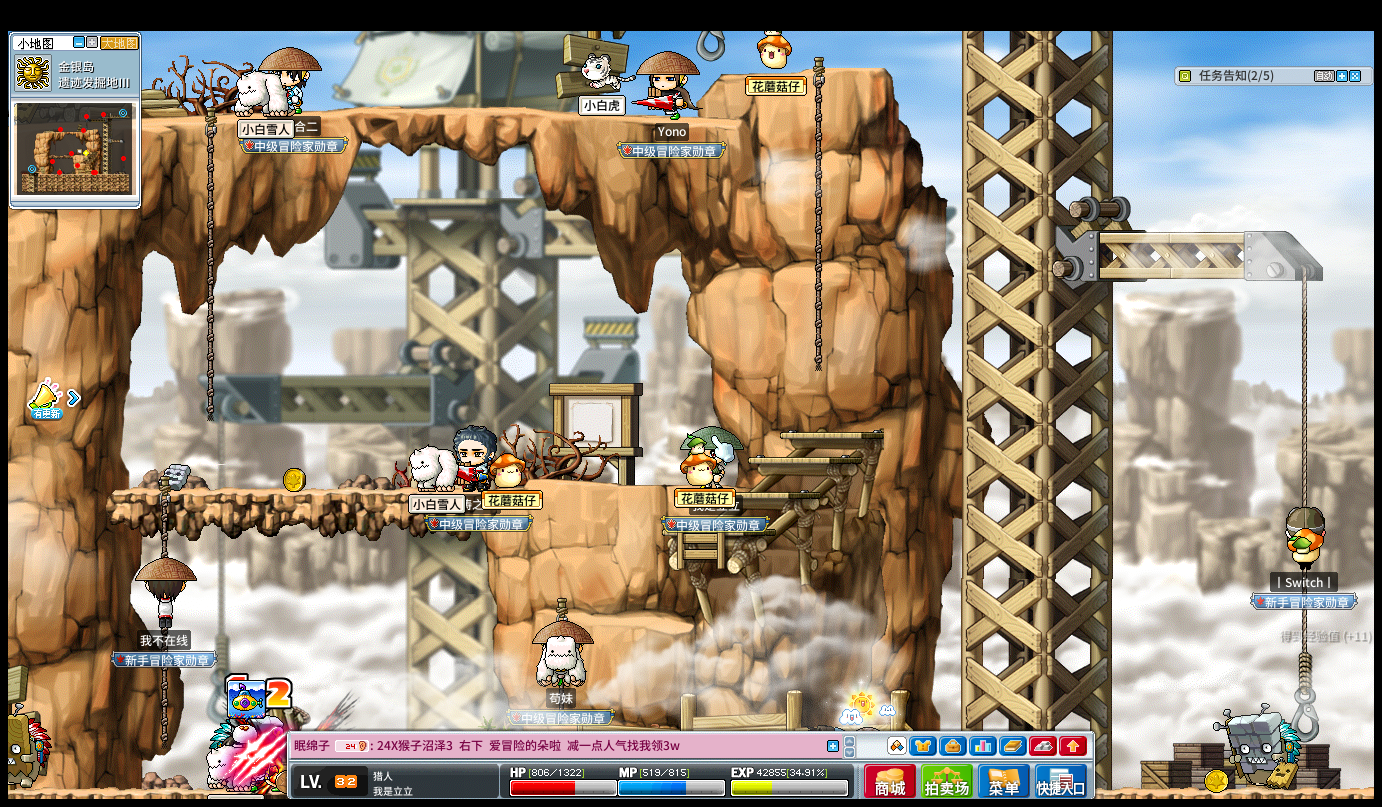floor: (118, 104, 747, 131), (107, 487, 497, 498), (1097, 227, 1297, 243), (589, 612, 695, 634), (721, 65, 894, 76), (603, 481, 770, 490), (775, 429, 883, 440), (749, 454, 858, 463), (734, 490, 818, 499)
monster: (1226, 711, 1301, 789), (3, 712, 52, 790)
rope: (811, 52, 824, 377), (203, 104, 216, 422), (1298, 273, 1310, 469), (1297, 611, 1311, 704), (156, 475, 170, 557), (1297, 446, 1311, 504), (158, 668, 167, 751)
